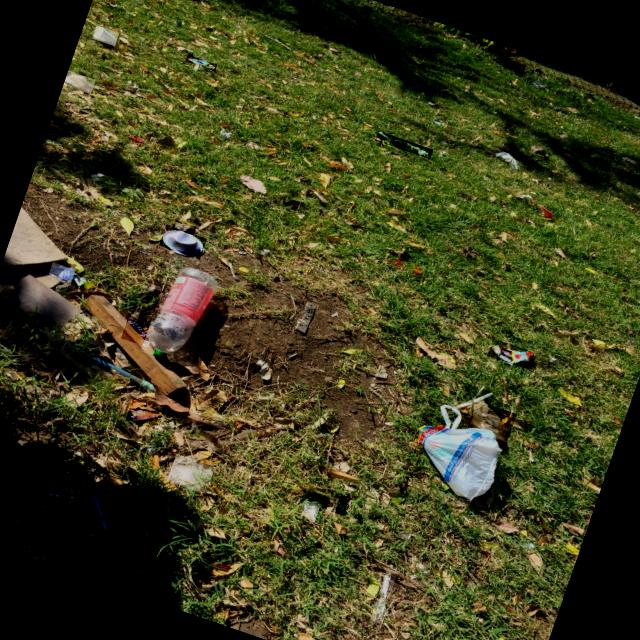Bottle cap: (153, 351, 166, 359)
Clear plastic bottle: (147, 268, 217, 359)
Cup: (93, 27, 116, 45)
Other Carton: (50, 268, 74, 280)
Other container: (84, 481, 106, 530), (162, 231, 203, 256)
Other plastic: (128, 319, 154, 349), (128, 406, 162, 422)
Other plastic bottle: (167, 459, 212, 486), (374, 570, 392, 622)
Paper bag: (495, 153, 519, 168), (174, 222, 195, 232)
Plastic film: (469, 404, 506, 446), (64, 74, 92, 93)
Single-use carrier bag: (418, 405, 503, 501)
Straw: (455, 392, 493, 408)
Unlabeled litter: (377, 132, 430, 159), (490, 345, 533, 364), (187, 58, 215, 69), (336, 497, 350, 514), (304, 503, 316, 520), (73, 276, 88, 287), (91, 174, 104, 178), (434, 122, 439, 124)
